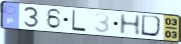3: (22, 6, 41, 29), (93, 11, 111, 35)
6: (44, 8, 62, 31)
D: (139, 14, 165, 39)
H: (118, 13, 143, 36)
L: (71, 9, 88, 33)
